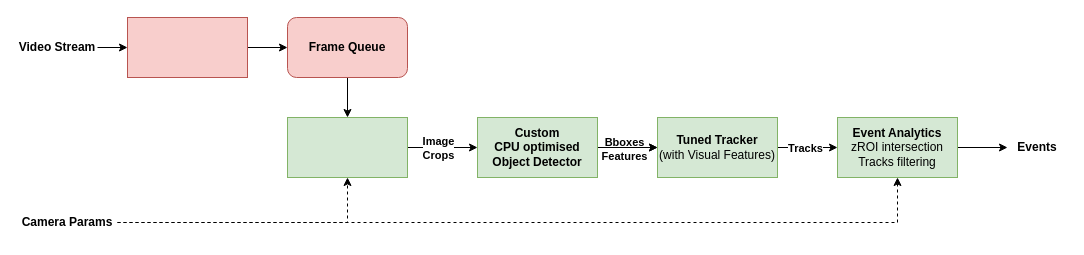
Image size: 1084x255. Some labels were removed from this diagram. Here are the shapes that lost their labels. From the top down, the centre of each, then its label:
[187,47]: Frame Decoder
[347,147]: Smart ROI Selection Perspective Slicing + Motion
